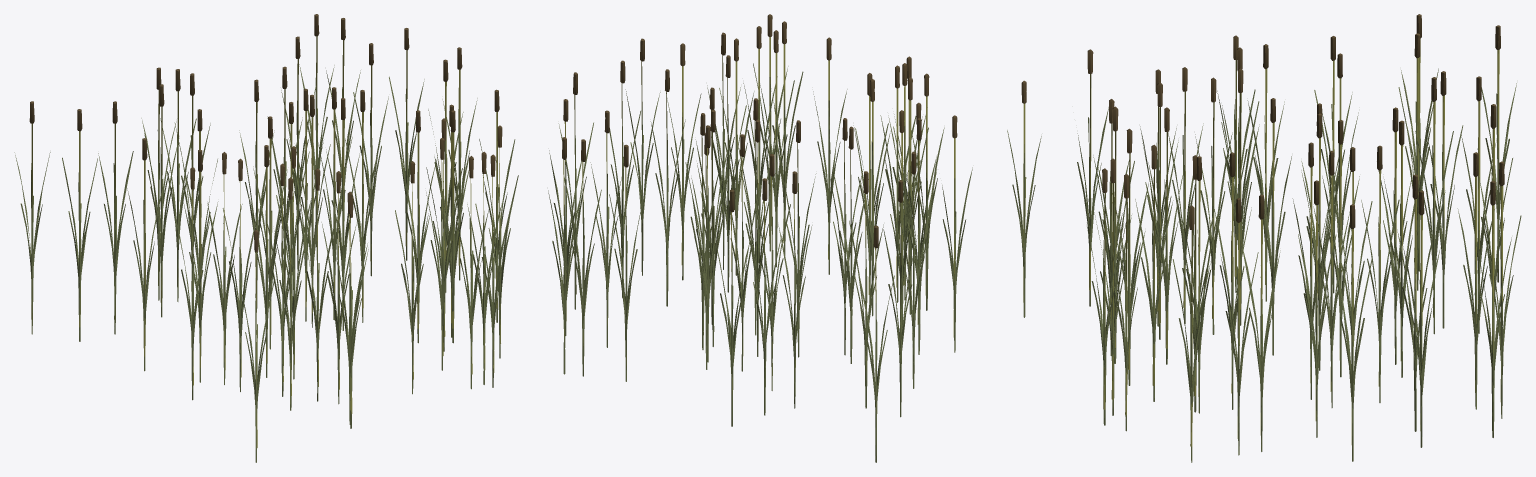
The model's file is schilfgruppe.fbx.
The picture shows the model from 3 angles, left to right: view 1: azimuth 30°, elevation 25°; view 2: azimuth 150°, elevation 25°; view 3: azimuth 270°, elevation 25°; orthographic projection. The views are drawn at different scales.
Visible parts, largest first — view 1: schilf; view 2: schilf; view 3: schilf.
Part boxes in pixels (x1,y1,x2,y2): schilf: [14, 14, 518, 462]; schilf: [548, 14, 1041, 462]; schilf: [1077, 14, 1521, 462].
Bounding box in the file's own units: 638 × 402 × 577.
